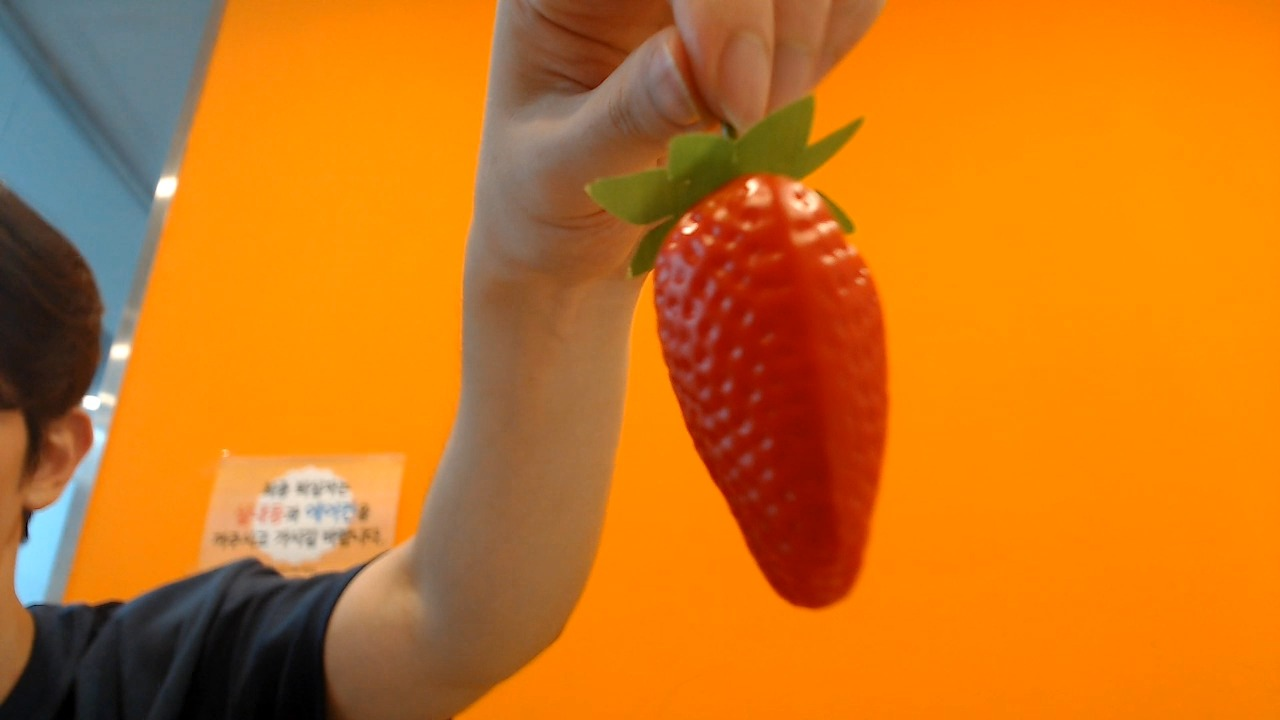strawberry: (641, 133, 889, 606)
